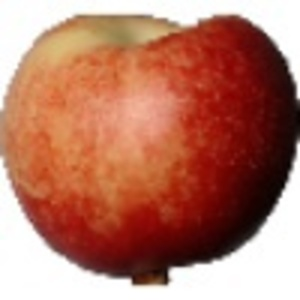nectarina: (1, 10, 300, 290)
